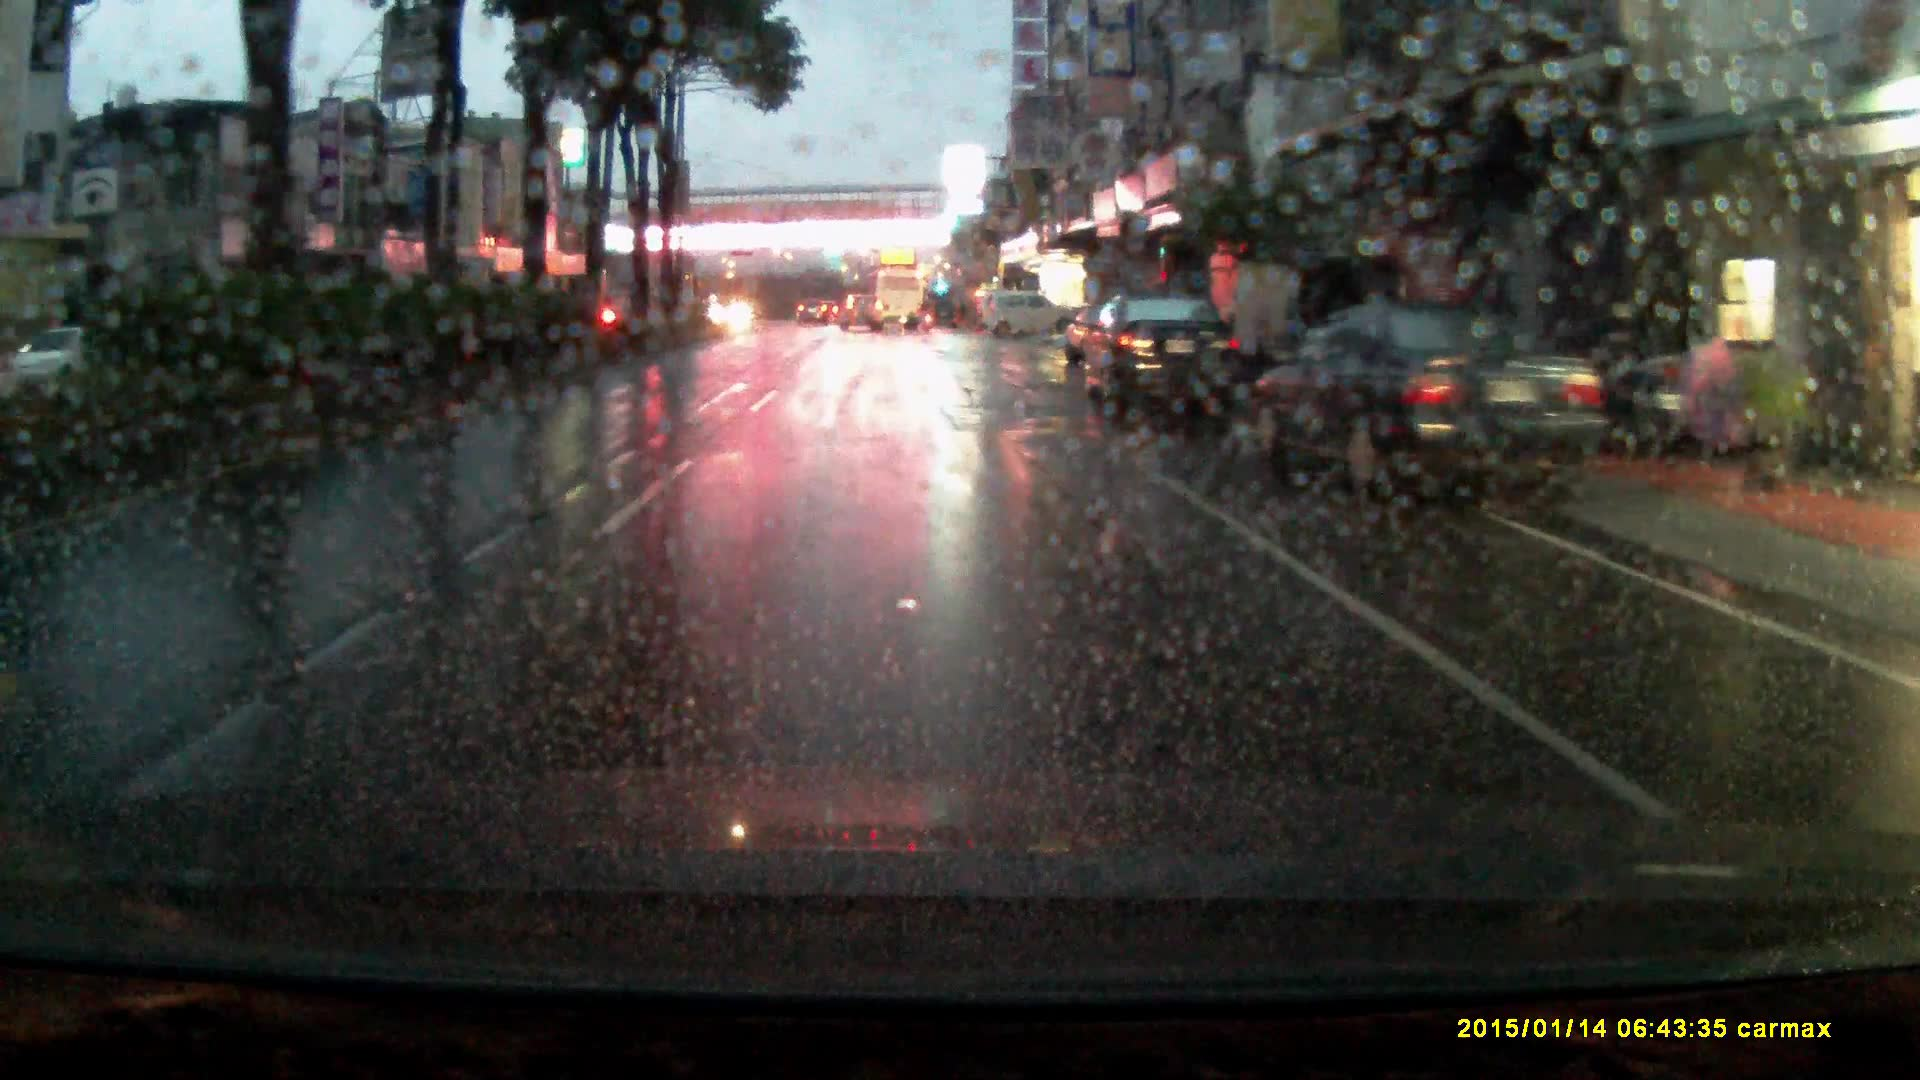vehicle: (1241, 305, 1619, 512), (1080, 289, 1247, 423), (986, 291, 1075, 344), (861, 269, 926, 334), (1065, 305, 1108, 368), (837, 295, 887, 338), (796, 299, 831, 330)
